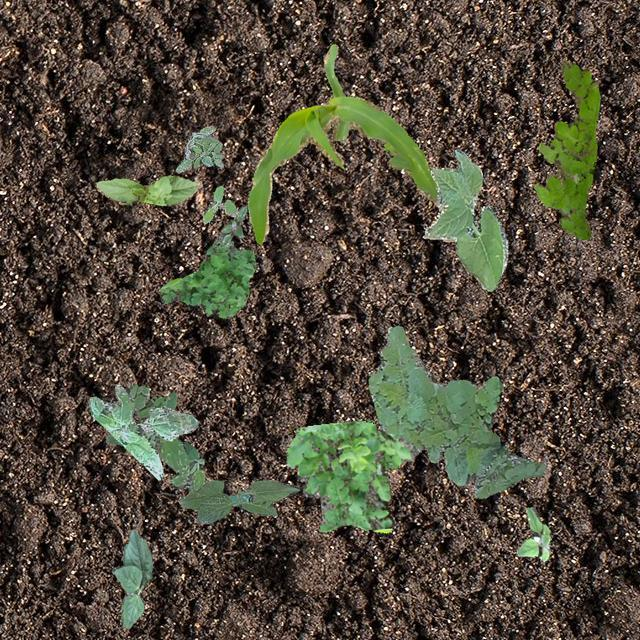crop: (246, 42, 436, 244), (423, 148, 508, 290), (178, 478, 298, 522), (110, 528, 152, 628), (95, 174, 198, 204)
weed: (368, 324, 544, 498), (286, 418, 414, 532), (532, 60, 600, 238), (104, 382, 204, 490), (86, 384, 198, 478), (158, 232, 254, 316), (175, 126, 222, 172), (516, 506, 550, 560), (202, 185, 238, 222), (220, 206, 246, 246)
